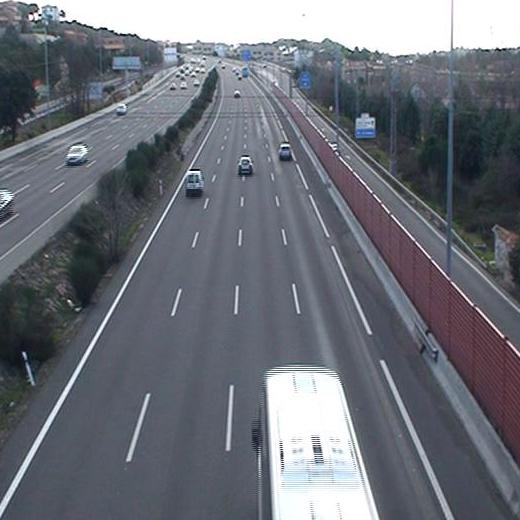car: (235, 153, 257, 175), (277, 141, 294, 159)
van: (183, 166, 207, 193)
